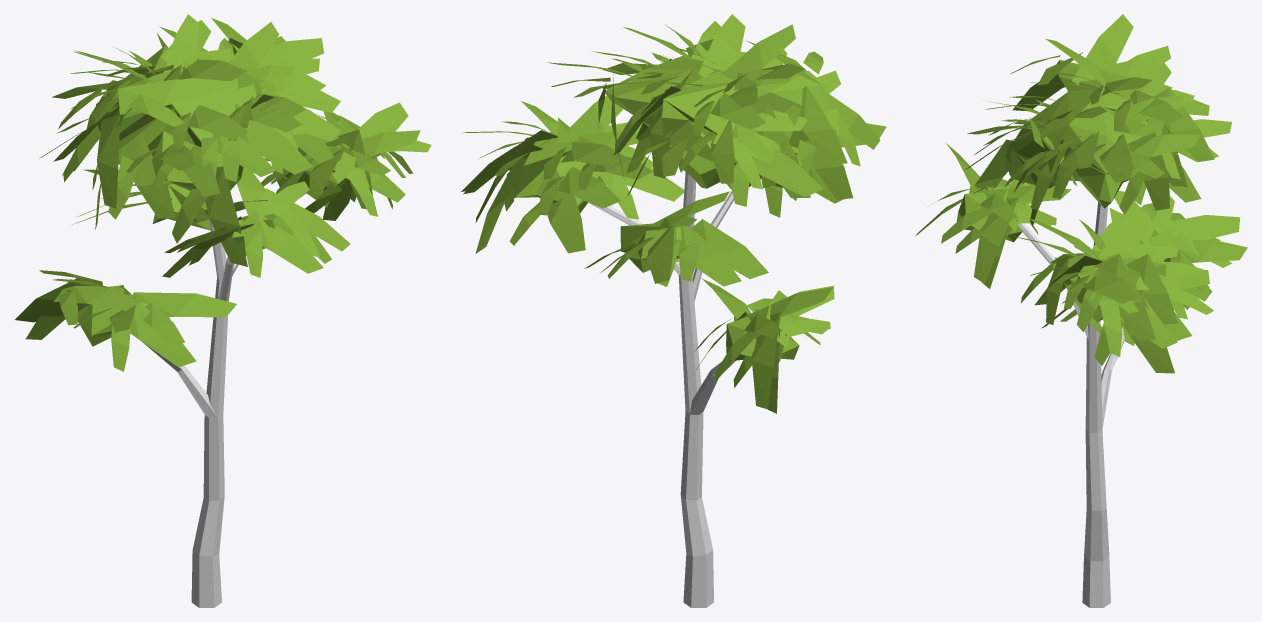
Rendered from SM_Tree_Acacia_Sapling_A.fbx.
The picture shows the model from 3 angles, left to right: view 1: azimuth 30°, elevation 25°; view 2: azimuth 150°, elevation 25°; view 3: azimuth 270°, elevation 25°; orthographic projection. The views are drawn at different scales.
Visible parts, largest first — view 1: tree-acacia-sapling-a; view 2: tree-acacia-sapling-a; view 3: tree-acacia-sapling-a.
Boxes of the visible parts, x1,y1,x2,y2 form: tree-acacia-sapling-a: (15, 14, 431, 607); tree-acacia-sapling-a: (461, 14, 886, 607); tree-acacia-sapling-a: (915, 14, 1247, 607).
Bounding box in the file's own units: 1.13 × 1.67 × 0.9457.
